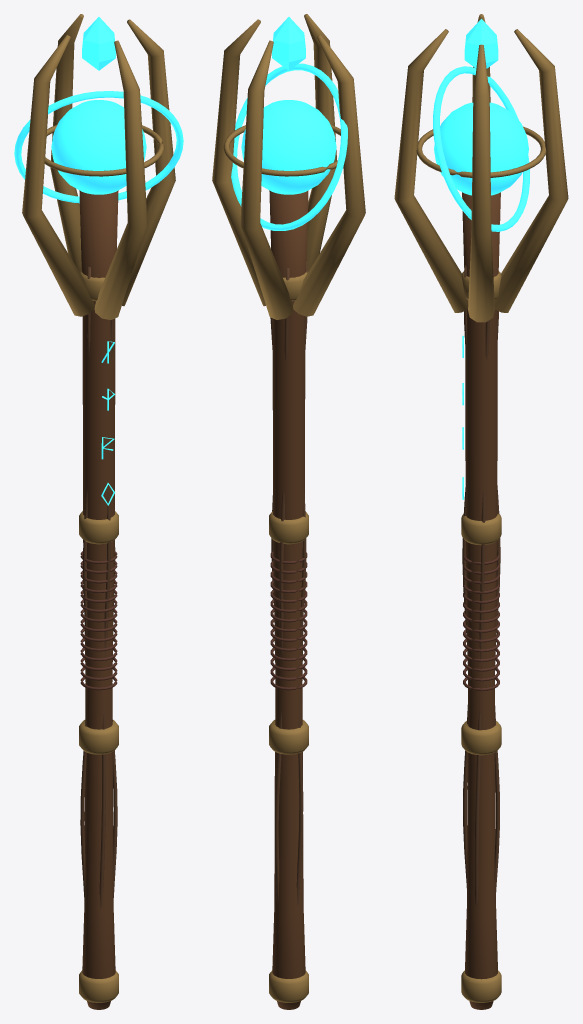
The model's file is wooden-staff-legendary.glb.
The picture shows the model from 3 angles, left to right: view 1: azimuth 30°, elevation 25°; view 2: azimuth 150°, elevation 25°; view 3: azimuth 270°, elevation 25°; orthographic projection.
Visible parts, largest first — view 1: wooden-staff__legendary; view 2: wooden-staff__legendary; view 3: wooden-staff__legendary.
Boxes of the visible parts, x1,y1,x2,y2 form: wooden-staff__legendary: [14, 14, 183, 1009]; wooden-staff__legendary: [212, 14, 365, 1009]; wooden-staff__legendary: [394, 14, 568, 1009].
Bounding box in the file's own units: 0.2924 × 1.83 × 0.2929.
